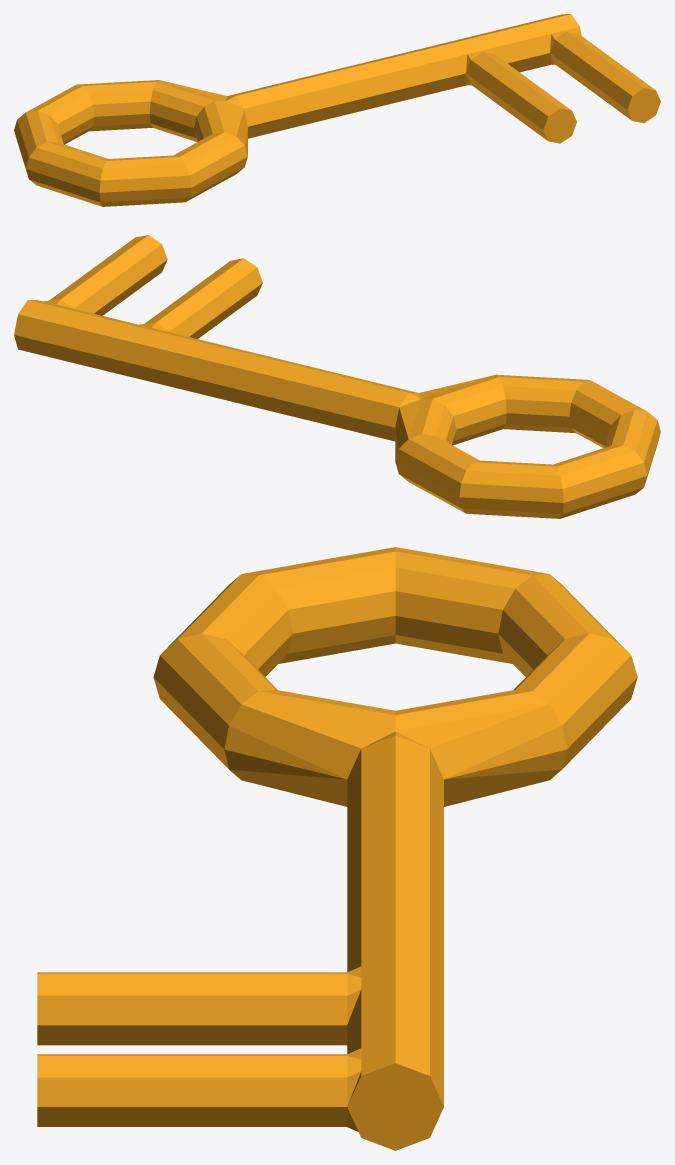
Rendered from Key.fbx.
3 views of the same model, one above another, from view 1: azimuth 30°, elevation 25°; view 2: azimuth 150°, elevation 25°; view 3: azimuth 270°, elevation 25° (orthographic). The views are drawn at different scales.
Parts seen in each view (by area): view 1: Key; view 2: Key; view 3: Key.
Boxes of the visible parts, <box> form: Key: <box>14,14,660,206</box>; Key: <box>14,235,660,518</box>; Key: <box>37,547,637,1150</box>.
Size of the model in its own units: 6.5 by 0.5 by 3.1.
